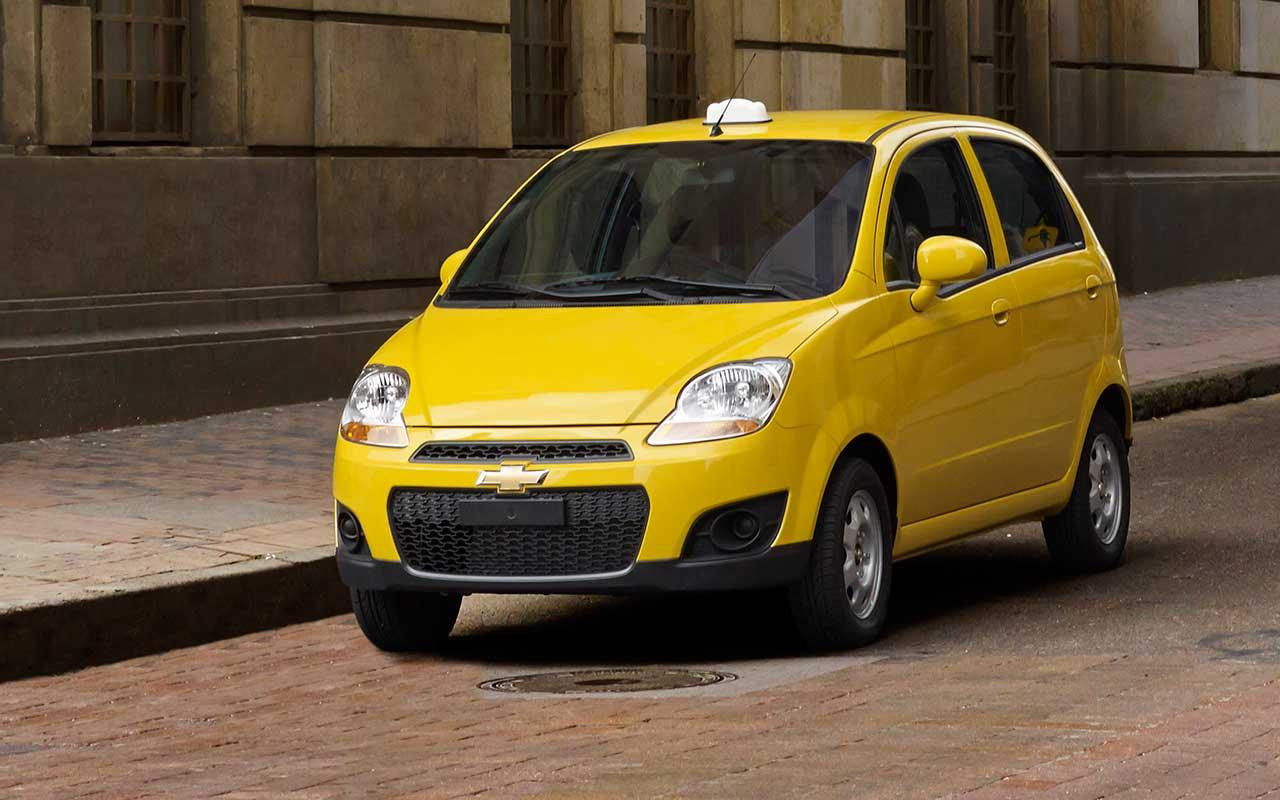taxi: (321, 64, 1142, 671)
